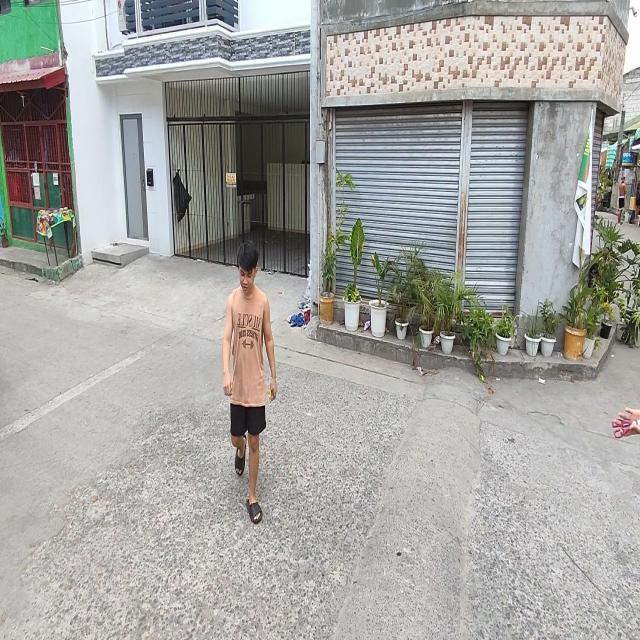scissor: (612, 417, 640, 438)
